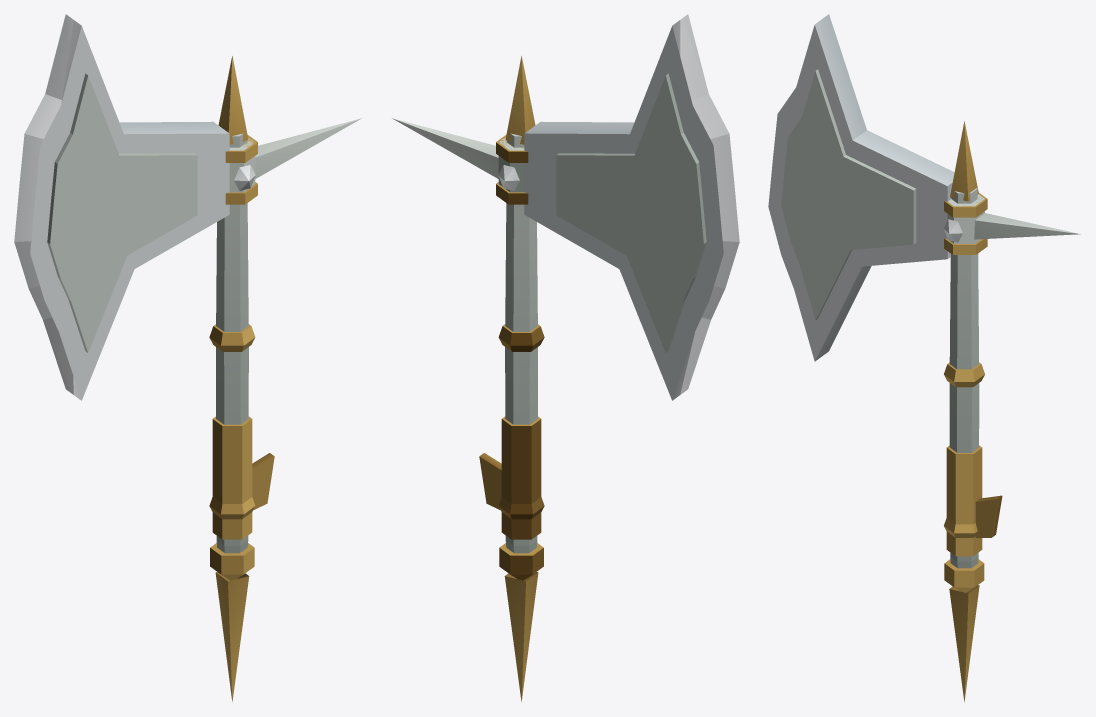
Rendered from barb_twin_4.gltf.
3 renders of one model, left to right at view 1: azimuth 30°, elevation 25°; view 2: azimuth 150°, elevation 25°; view 3: azimuth 330°, elevation 25°, orthographic. The views are drawn at different scales.
Visible parts, largest first — view 1: barb_twin_4; view 2: barb_twin_4; view 3: barb_twin_4.
Part boxes in pixels (x1,y1,x2,y2): barb_twin_4: [14, 14, 361, 701]; barb_twin_4: [392, 14, 739, 701]; barb_twin_4: [768, 14, 1080, 702].
Size of the model in its own units: 0.9405 by 1.91 by 0.162.
Materials: 1 (1 with a texture image).
